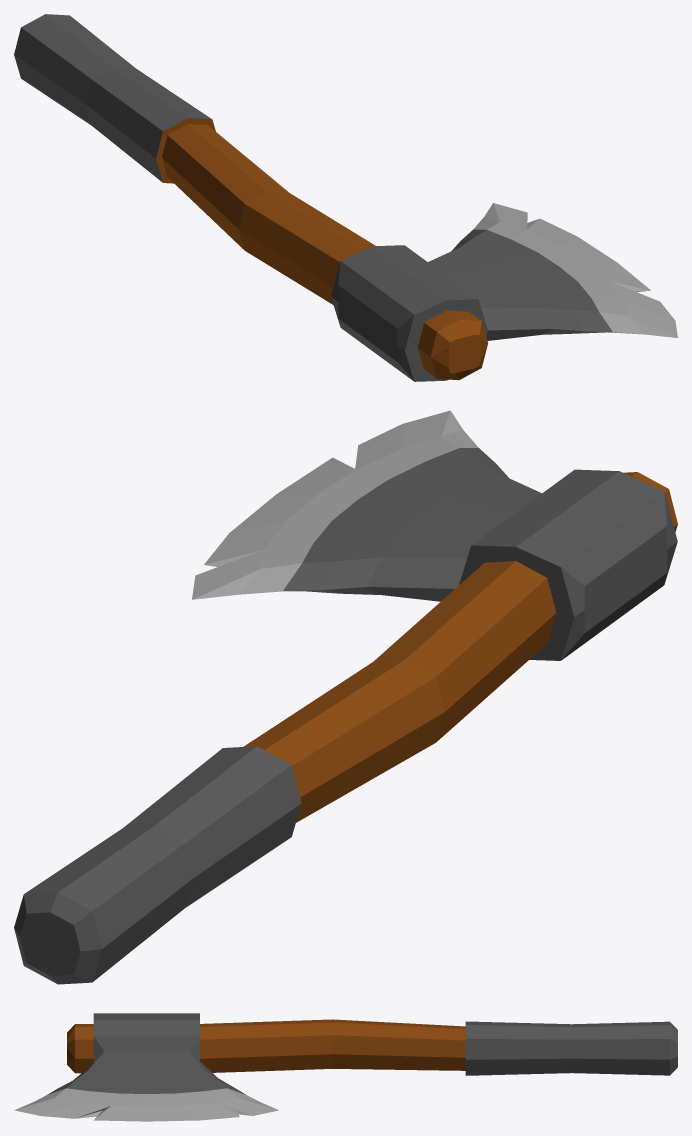
File: Axe.fbx
3 views of the same model, one above another, from view 1: azimuth 30°, elevation 25°; view 2: azimuth 150°, elevation 25°; view 3: azimuth 270°, elevation 25° (orthographic). The views are drawn at different scales.
Parts seen in each view (by area): view 1: Plane.003; view 2: Plane.003; view 3: Plane.003.
Boxes of the visible parts, x1,y1,x2,y2 form: Plane.003: (14,14,677,381); Plane.003: (14,410,677,984); Plane.003: (14,1013,677,1121).
Bounding box in the file's own units: 39 × 12 × 125.
